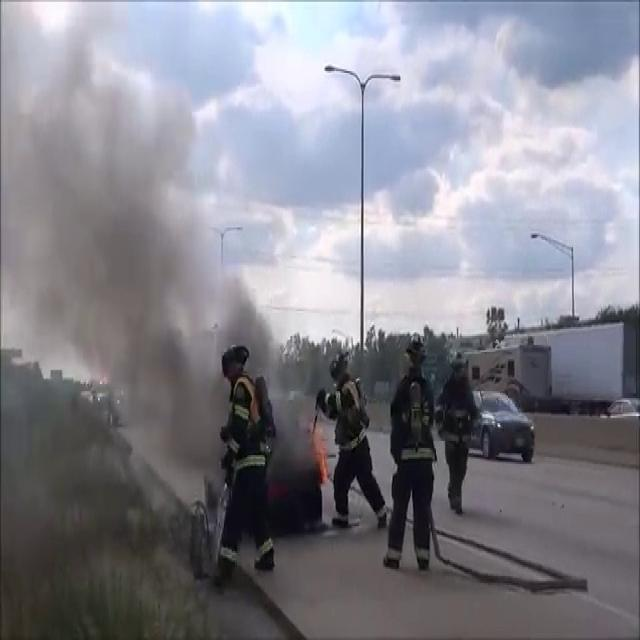Smoke: (2, 11, 262, 474)
